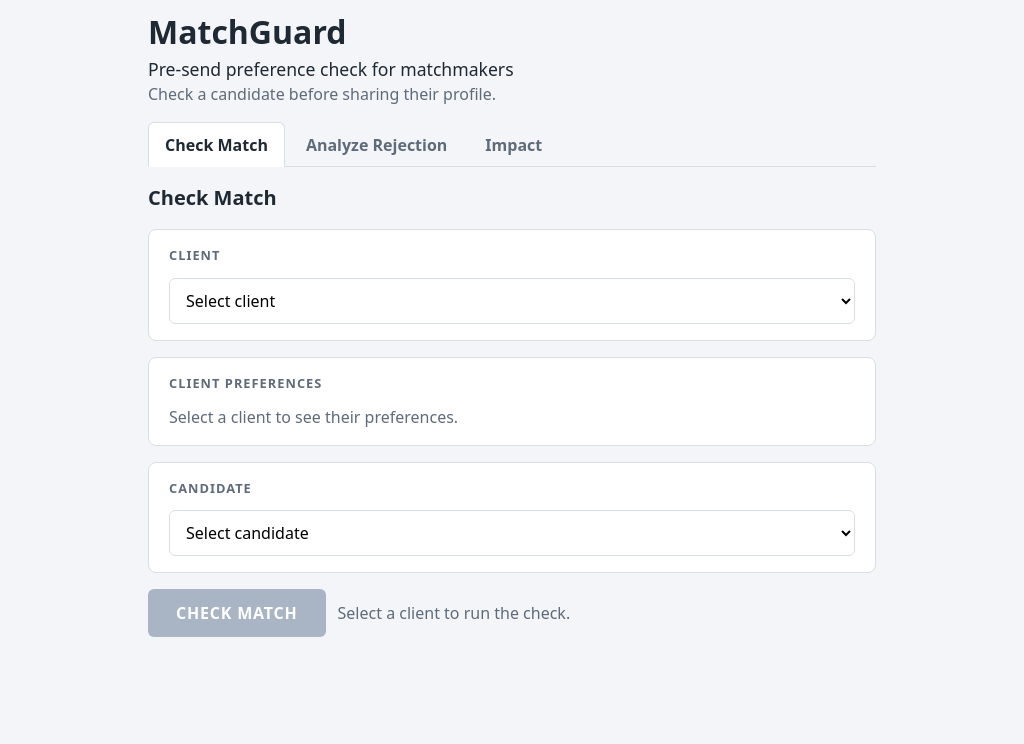
Test: Analyze Rejection mode › shows the needs-review warning for ambiguous feedback
Click the tab "Analyze Rejection" at (377, 145), box [289, 122, 464, 167]
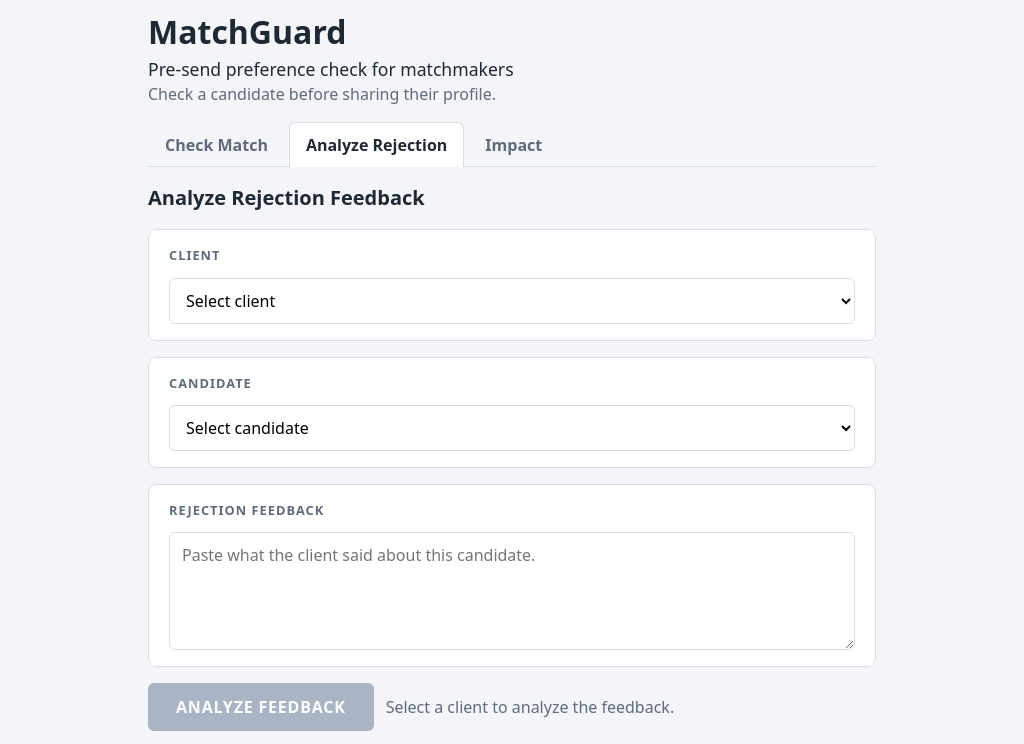
Select "Rahul" in the dropdown labelled "Client" at (512, 301), box [169, 278, 855, 324]
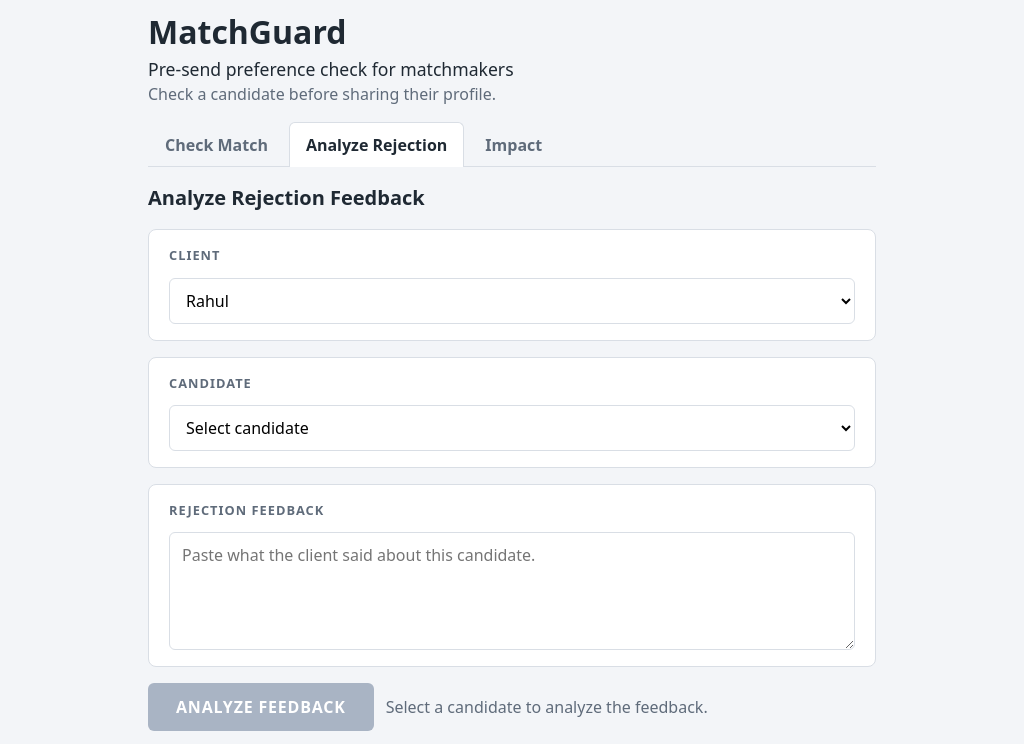
Select "Ishita — 29 · Delhi NCR" in the dropdown labelled "Candidate" at (512, 428), box [169, 405, 855, 451]
(page scrolled)
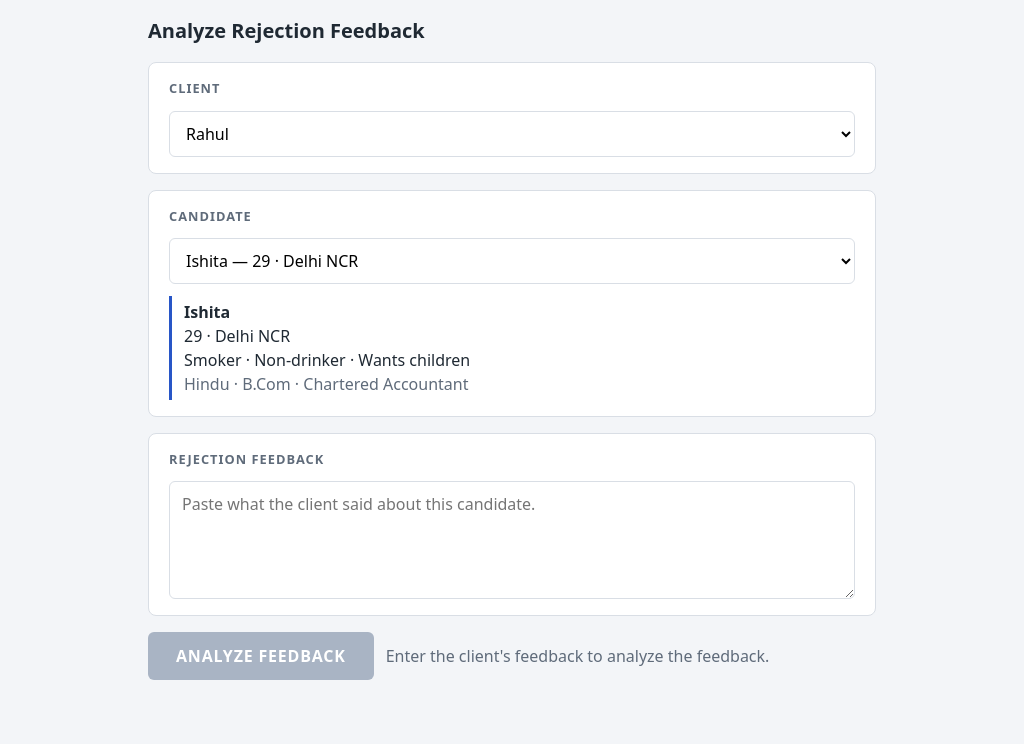
Type "Maybe smoking could be an issue." into the text box labelled "Rejection feedback" at (512, 540), box [169, 481, 855, 599]
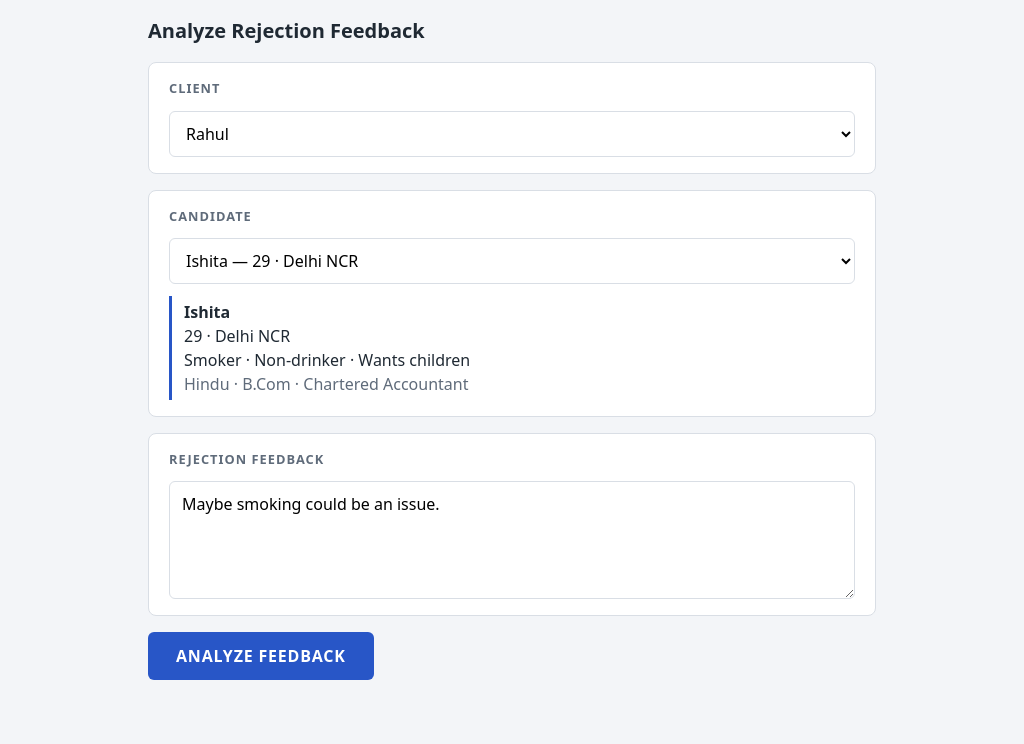
Click the button "Analyze feedback" at (261, 656), box [148, 632, 374, 680]
(page scrolled)
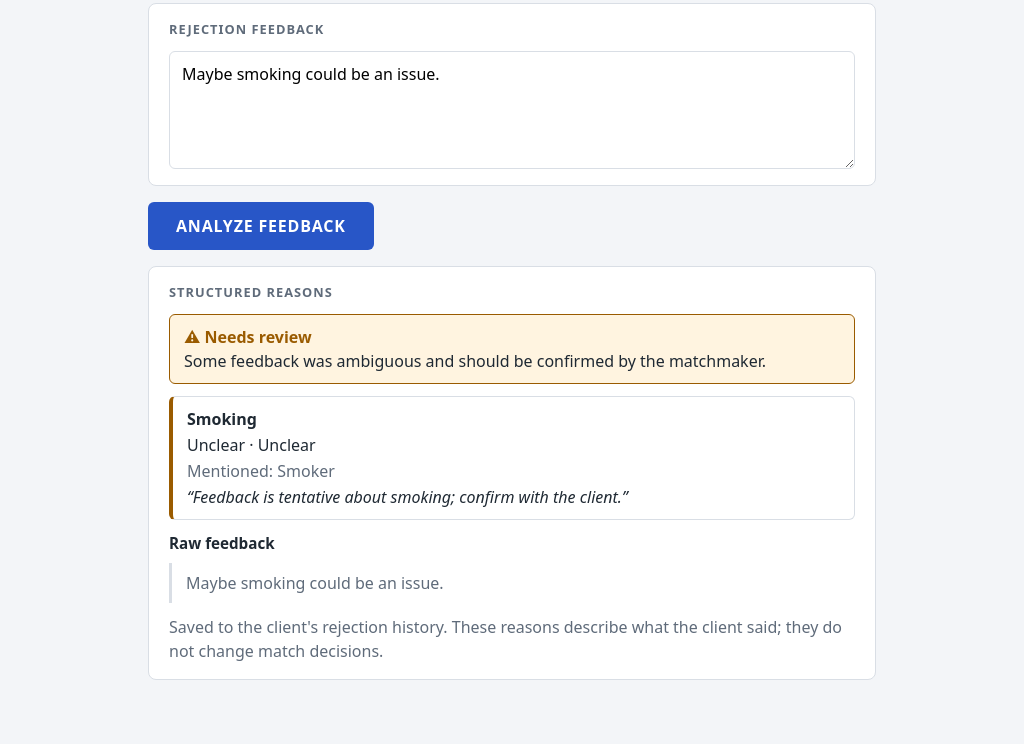
expect the text "Needs review" is shown: met, box [200, 326, 312, 348]
expect the text "Some feedback was ambiguous and should be confirmed by the matchmaker." is shown: met, box [184, 349, 840, 373]
expect the text "Unclear · Unclear" is shown: met, box [187, 434, 316, 456]
